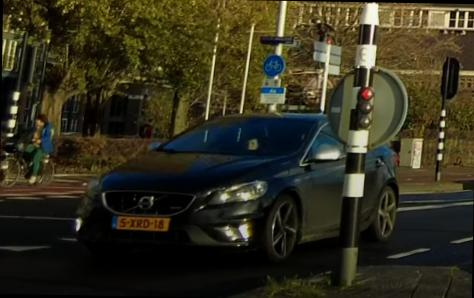license-plate: (112, 215, 171, 231)
